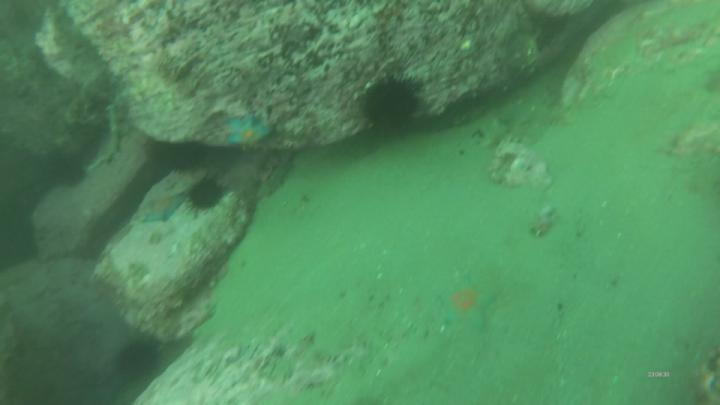echinus: (357, 72, 429, 140), (109, 336, 165, 383), (185, 173, 232, 218)
starfish: (435, 273, 496, 333), (224, 112, 274, 152), (142, 194, 183, 226)
